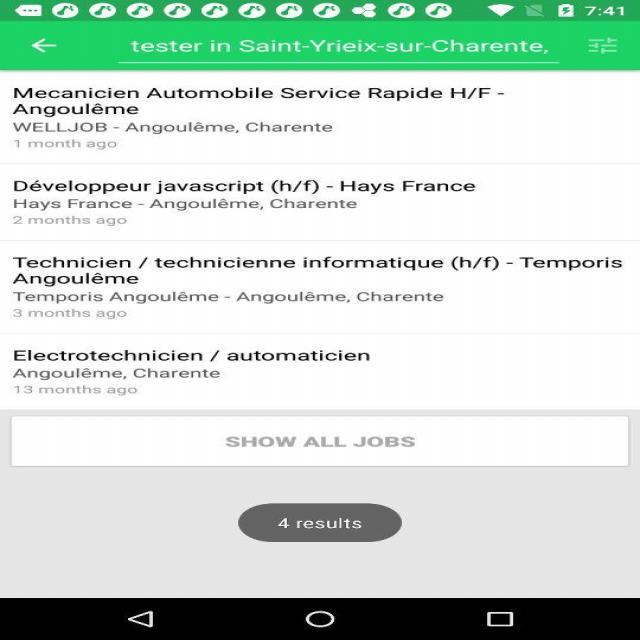text: (9, 63, 640, 411)
